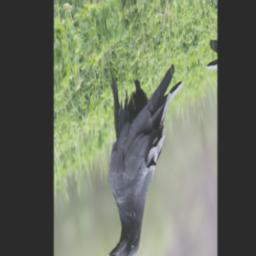Crow: (85, 27, 202, 256)
